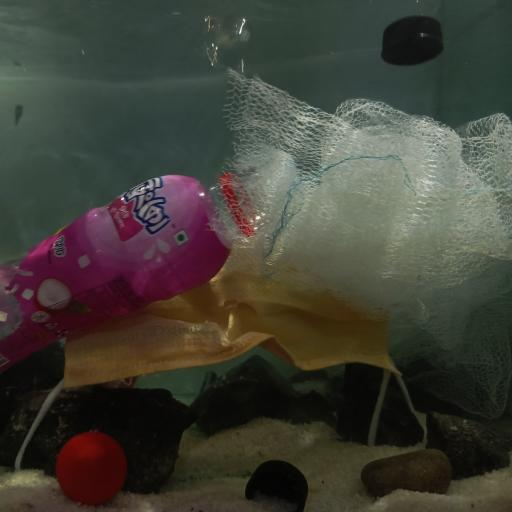bottle_cap: (56, 429, 129, 503), (244, 458, 308, 511), (381, 24, 442, 64)
mask: (45, 241, 408, 408)
net: (215, 59, 512, 424)
plastic_bottle: (0, 164, 270, 377)
